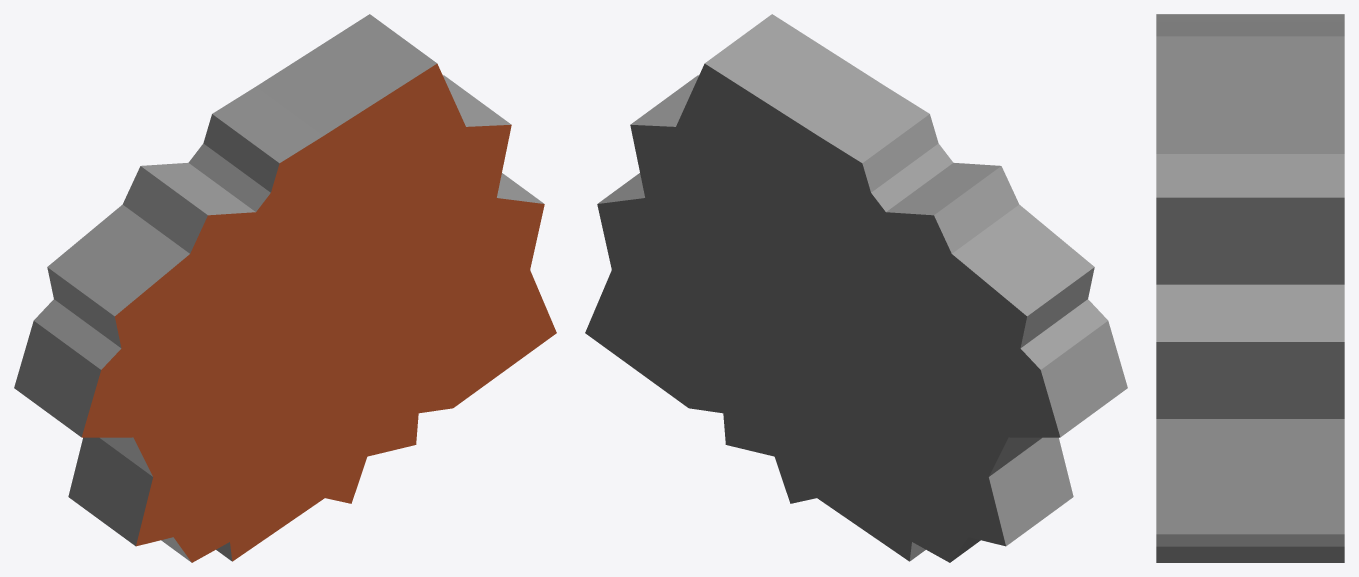
File: construction_3910_assumed_A_Casa_h6m.obj
3 renders of one model, left to right at view 1: azimuth 30°, elevation 25°; view 2: azimuth 150°, elevation 25°; view 3: azimuth 270°, elevation 25°, orthographic. The views are drawn at different scales.
Visible parts, largest first — view 1: construction_3910_assumed_A_Casa; view 2: construction_3910_assumed_A_Casa; view 3: construction_3910_assumed_A_Casa.
Part boxes in pixels (x1,y1,x2,y2): construction_3910_assumed_A_Casa: [14, 14, 556, 562]; construction_3910_assumed_A_Casa: [585, 14, 1127, 562]; construction_3910_assumed_A_Casa: [1156, 14, 1344, 562].
Size of the model in its own units: 24.38 by 21.97 by 6.
